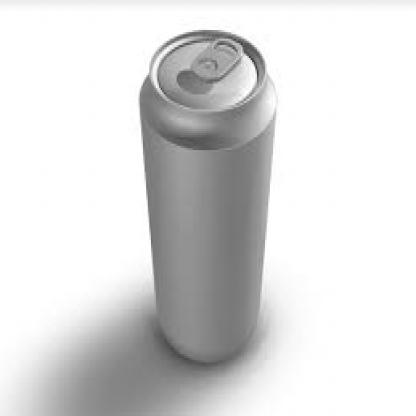METAL: (136, 24, 274, 360)
